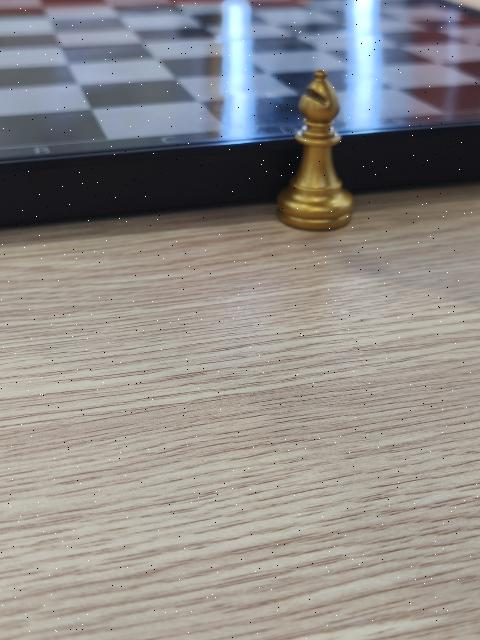black_bishop: (275, 69, 356, 232)
